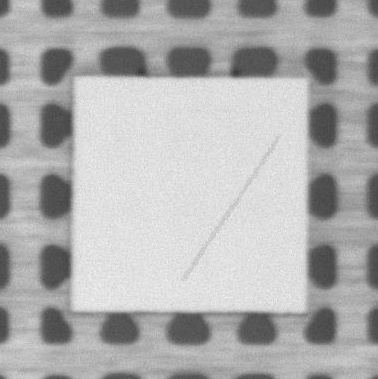DIE_CRACK: (184, 137, 278, 280)
